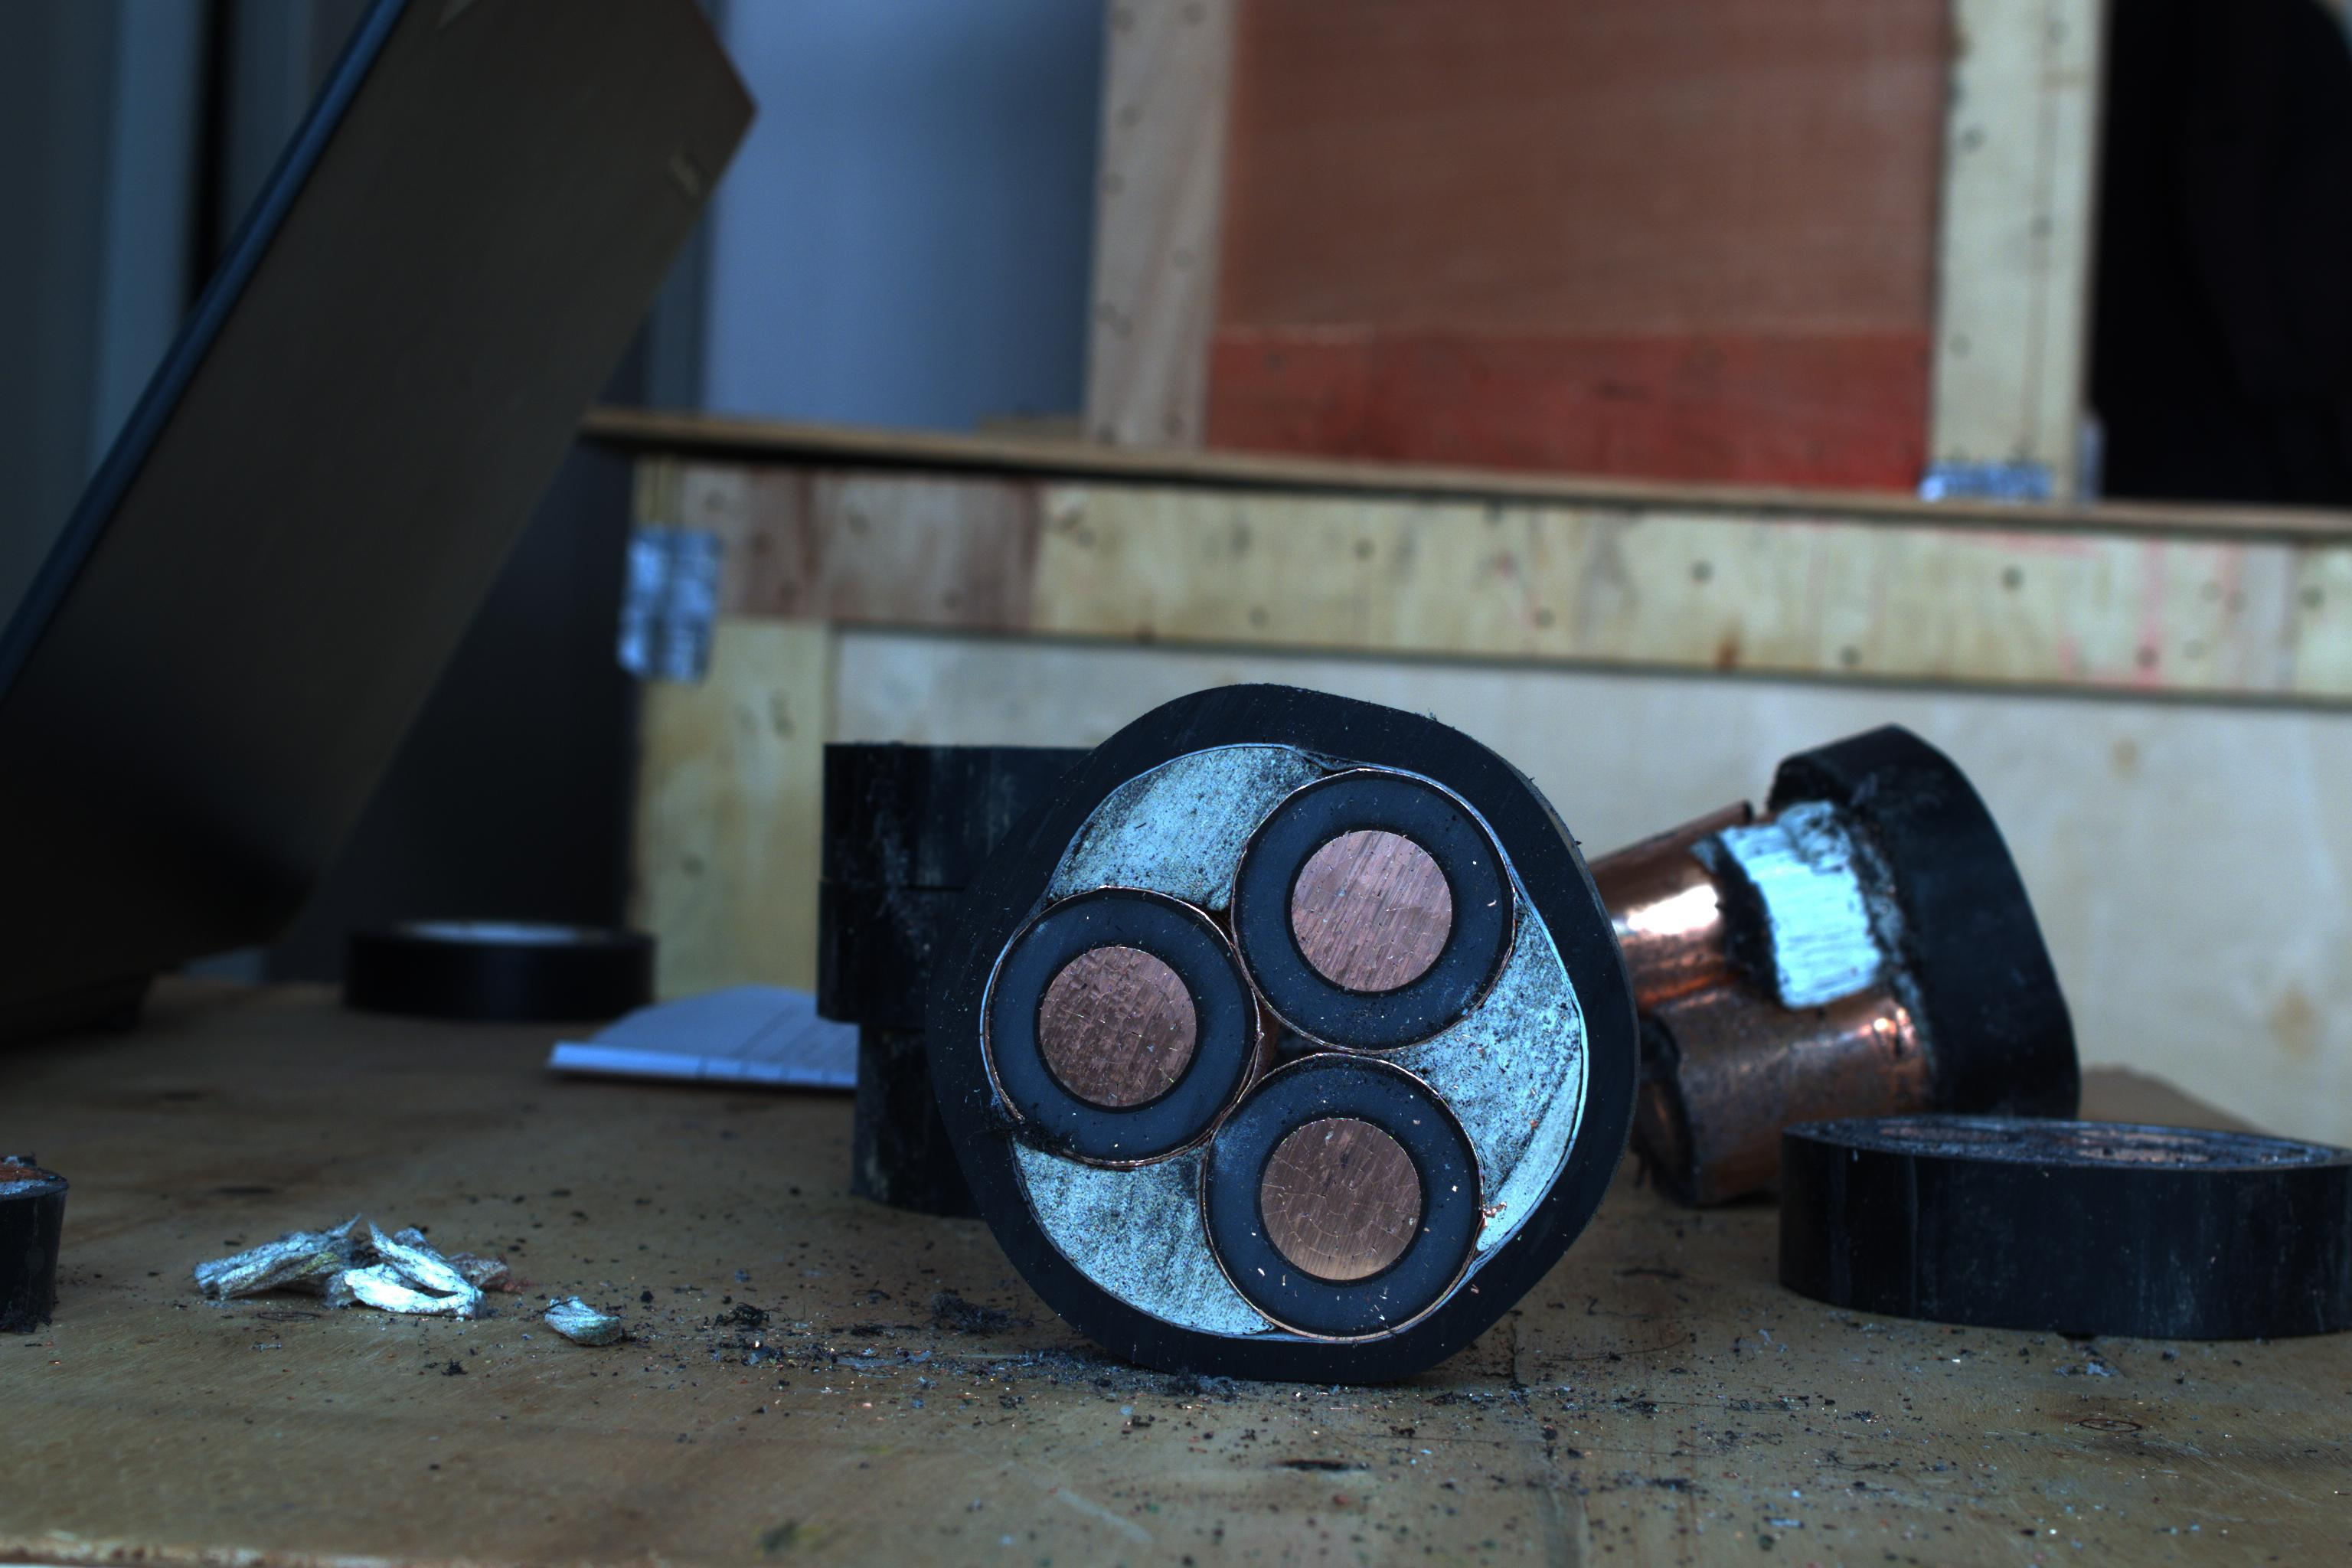ZA_YJV_8.7_10kV_3x240: (968, 705, 1662, 1372)
